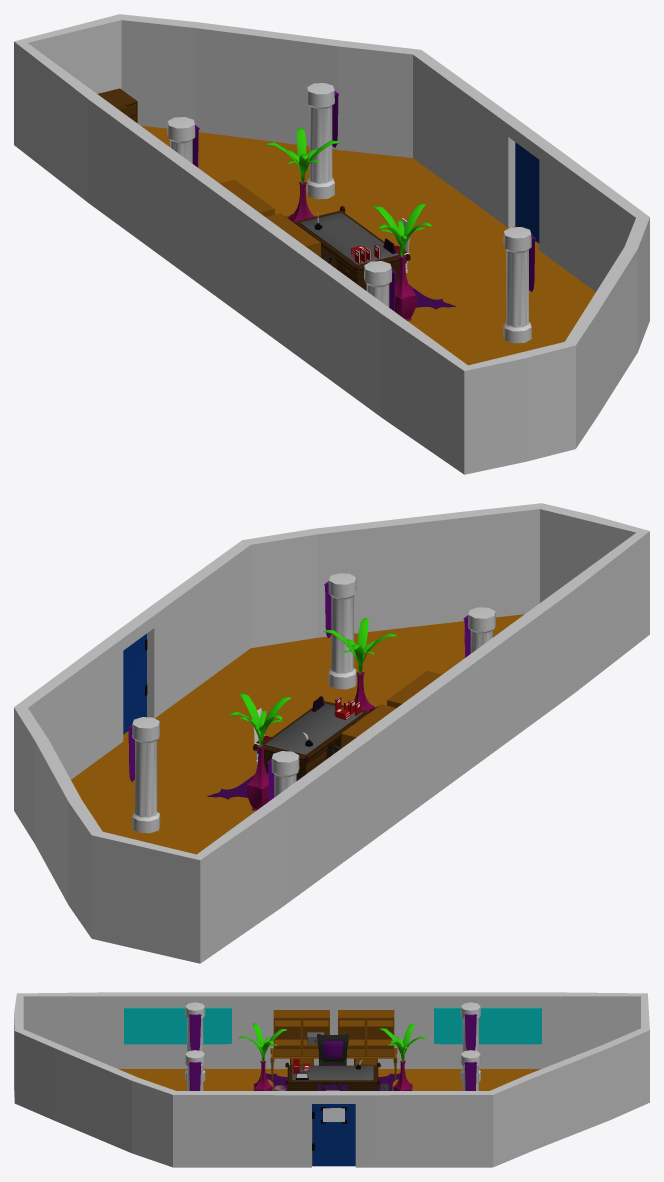
File: CEO_Office_combined.fbx
The picture shows the model from 3 angles, top to bottom: view 1: azimuth 30°, elevation 25°; view 2: azimuth 150°, elevation 25°; view 3: azimuth 270°, elevation 25°; orthographic projection. The views are drawn at different scales.
Visible parts, largest first — view 1: CEO_Office_Heaven.001, CEO_Office_Heaven, CEO_Office_Pillar, CEO_Desk, Player_Office_Heaven_Door.001, Bookshelf__CEO_Office, Banner, Plant_V1, Vase_1, Plant_V2, Storage_CEO_Office; view 2: CEO_Office_Heaven.001, CEO_Office_Heaven, CEO_Office_Pillar, CEO_Desk, Player_Office_Heaven_Door.001, Bookshelf__CEO_Office, Banner, Plant_V2, Vase_2, Plant_V1; view 3: CEO_Office_Heaven.001, Bookshelf__CEO_Office, CEO_Office_Heaven, CEO_Office_Window_3, CEO_Office_Window_4, Player_Office_Heaven_Door.001, CEO_Desk, CEO_Office_Pillar, Banner, CEO_Chair, CEO_Rug, Plant_V2 (+3 smaller).
Part boxes in pixels (x1,y1,x2,y2): CEO_Office_Heaven.001: (14,14,649,474); CEO_Office_Heaven: (141,125,595,365); CEO_Office_Pillar: (167,83,531,343); CEO_Desk: (293,209,410,290); Player_Office_Heaven_Door.001: (515,142,539,243); Bookshelf__CEO_Office: (220,179,320,257); Banner: (192,91,535,311); Plant_V1: (373,203,431,256); Vase_1: (395,254,416,320); Plant_V2: (265,127,339,183); Storage_CEO_Office: (97,88,137,123); CEO_Office_Heaven.001: (14,503,649,963); CEO_Office_Heaven: (71,614,524,854); CEO_Office_Pillar: (132,573,495,833); CEO_Desk: (253,699,369,780); Player_Office_Heaven_Door.001: (123,633,147,734); Bookshelf__CEO_Office: (341,671,442,748); Banner: (128,581,470,801); Plant_V2: (230,693,291,746); Vase_2: (246,745,268,810); Plant_V1: (324,618,397,673); CEO_Office_Heaven.001: (14,992,649,1167); Bookshelf__CEO_Office: (270,1010,397,1079); CEO_Office_Heaven: (118,1069,540,1165); CEO_Office_Window_3: (124,1007,231,1044); CEO_Office_Window_4: (434,1007,541,1044); Player_Office_Heaven_Door.001: (312,1104,355,1166); CEO_Desk: (285,1065,380,1110); CEO_Office_Pillar: (185,1002,480,1090); Banner: (189,1014,477,1090); CEO_Chair: (317,1034,348,1090); CEO_Rug: (265,1072,405,1090); Plant_V2: (379,1023,426,1061).
Bounding box in the file's own units: 695 × 233 × 1813.
